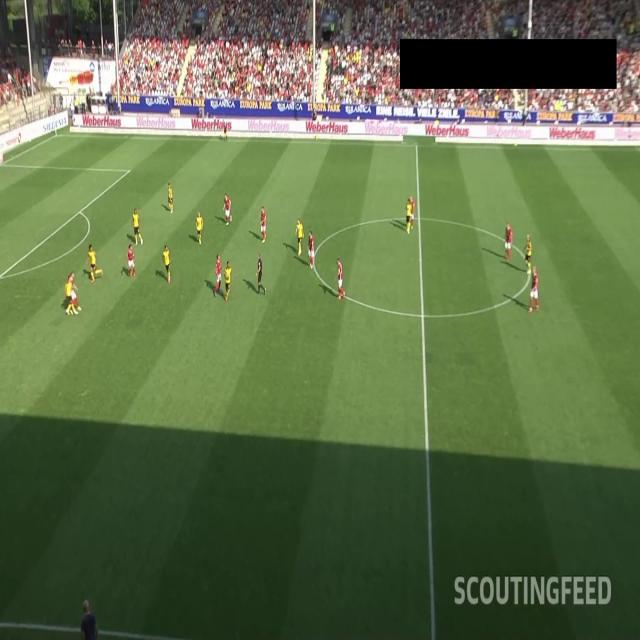player: (528, 264, 541, 314), (68, 272, 82, 318), (88, 242, 100, 282), (131, 208, 142, 249), (502, 221, 512, 261), (67, 276, 75, 318), (214, 253, 222, 295), (225, 259, 233, 300), (524, 235, 532, 272), (308, 230, 315, 272), (126, 244, 135, 276), (164, 181, 173, 213), (296, 220, 304, 254), (260, 204, 267, 242), (338, 257, 344, 301), (404, 197, 411, 234), (195, 211, 203, 242), (408, 194, 414, 232), (225, 192, 232, 223)
